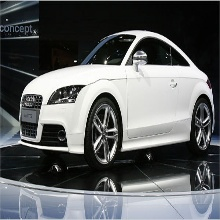no damage: (18, 27, 216, 169)
